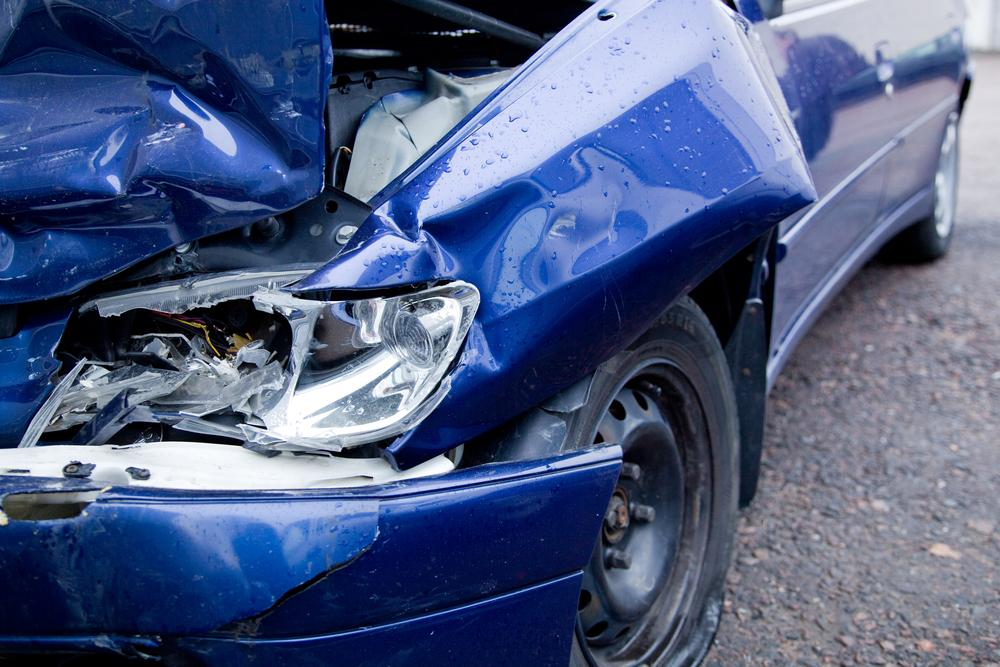crack: (211, 499, 384, 634), (0, 485, 110, 521), (535, 405, 580, 433)
dent: (0, 2, 325, 304), (363, 155, 695, 371)
lamp broken: (22, 276, 490, 456)
tire flat: (563, 298, 742, 667)
